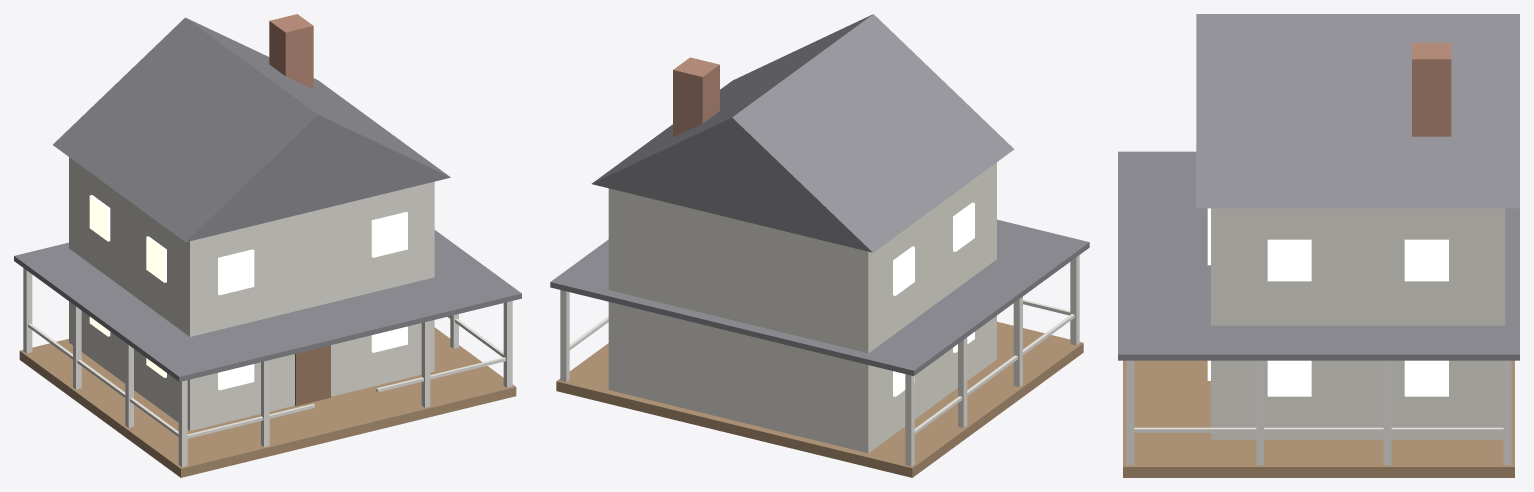
Rendered from farmhouse.glb.
3 renders of one model, left to right at view 1: azimuth 30°, elevation 25°; view 2: azimuth 150°, elevation 25°; view 3: azimuth 270°, elevation 25°, orthographic. The views are drawn at different scales.
Visible parts, largest first — view 1: farmhouse; view 2: farmhouse; view 3: farmhouse.
Part boxes in pixels (x1,y1,x2,y2): farmhouse: (14,14,521,477); farmhouse: (550,14,1089,477); farmhouse: (1118,14,1519,477).
Bounding box in the file's own units: 9.8 × 8.31 × 8.2.
